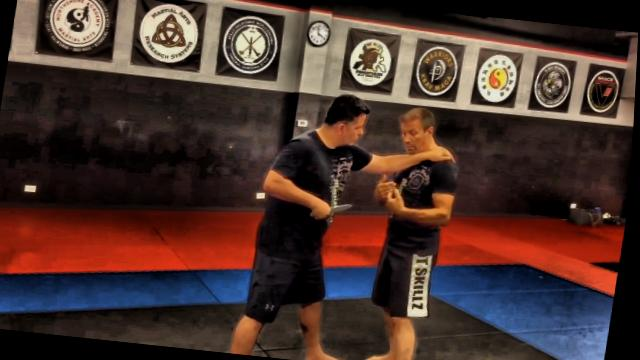knife: (310, 198, 356, 225)
